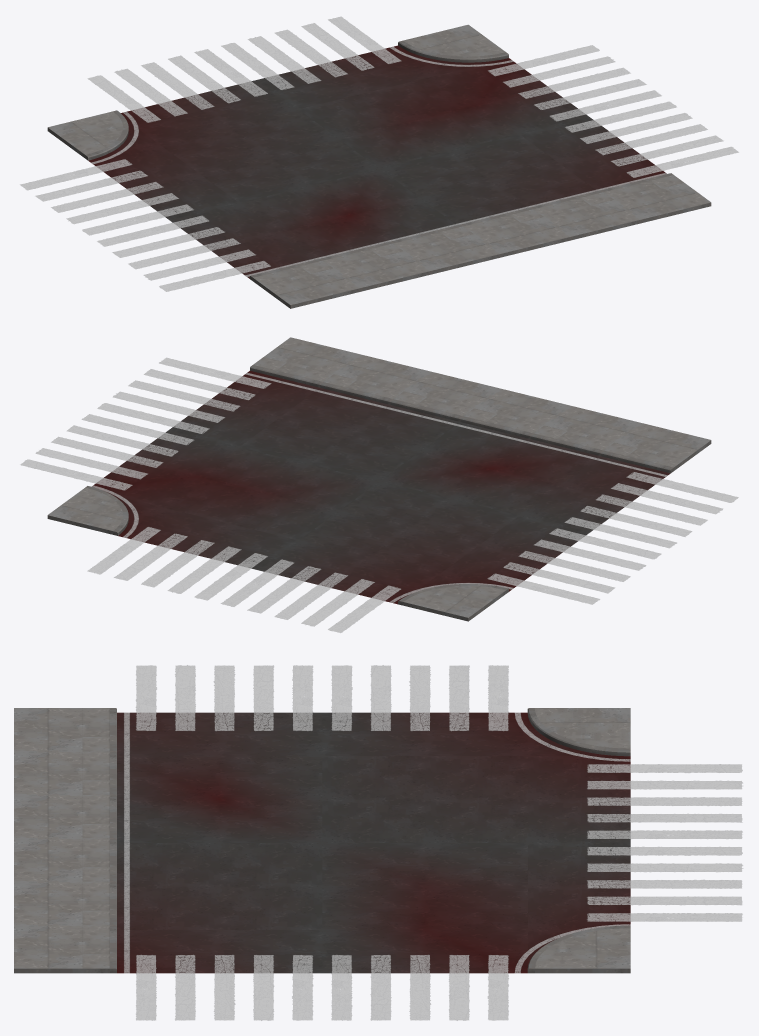
The model's file is Street_TIntersection.gltf.
3 renders of one model, top to bottom at view 1: azimuth 30°, elevation 25°; view 2: azimuth 150°, elevation 25°; view 3: azimuth 270°, elevation 25°, orthographic. The views are drawn at different scales.
Visible parts, largest first — view 1: Street_TIntersection; view 2: Street_TIntersection; view 3: Street_TIntersection.
Part boxes in pixels (bbox=[...]): Street_TIntersection: bbox=[20, 16, 738, 308]; Street_TIntersection: bbox=[20, 337, 738, 632]; Street_TIntersection: bbox=[14, 665, 742, 1020].
Size of the model in its own units: 24.67 by 0.1505 by 21.33.
Materials: 3 (3 with a texture image).
